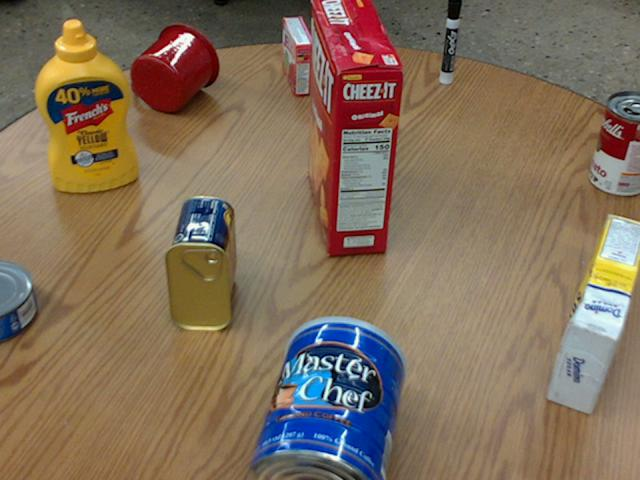cracker_box: (304, 0, 402, 254)
gelatin_box: (283, 17, 316, 94)
large_marker: (439, 0, 461, 82)
master_chef_can: (243, 316, 406, 479)
mug: (130, 22, 219, 111)
mustard_bottle: (35, 19, 136, 190)
potted_meat_can: (163, 194, 232, 330)
sugar_box: (548, 215, 639, 415)
tomato_soup_can: (588, 92, 639, 196)
tuna_fish_can: (0, 258, 35, 338)
